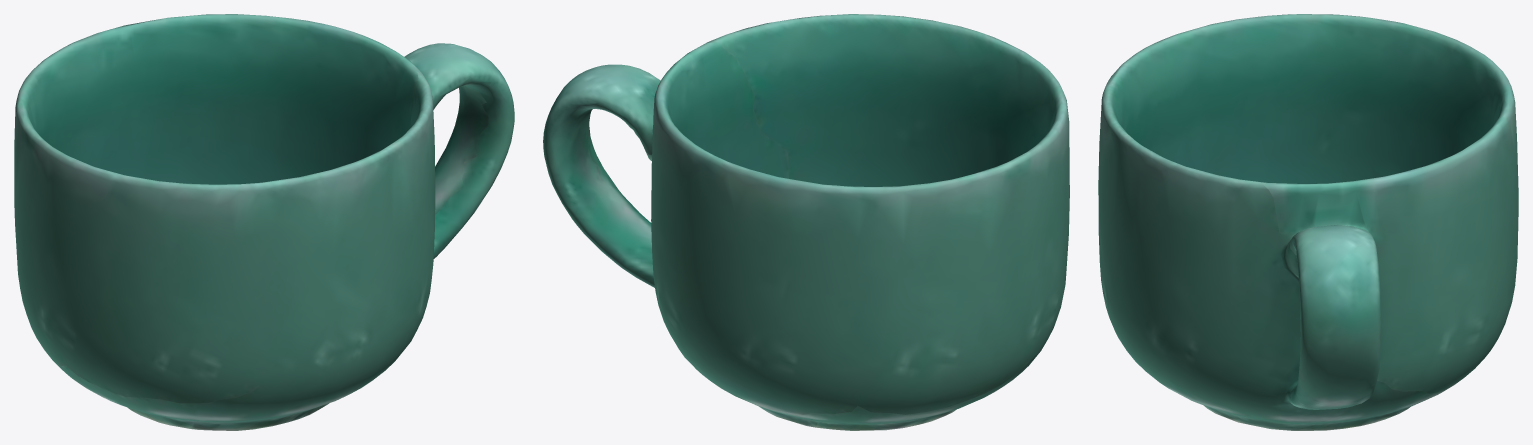
Rendered from mug.glb.
The picture shows the model from 3 angles, left to right: view 1: azimuth 30°, elevation 25°; view 2: azimuth 150°, elevation 25°; view 3: azimuth 270°, elevation 25°; orthographic projection.
Visible parts, largest first — view 1: part0; view 2: part0; view 3: part0.
Part boxes in pixels (box(x1,y1,x2,y2)): part0: box(14, 14, 514, 430); part0: box(543, 14, 1069, 430); part0: box(1098, 14, 1518, 430).
Size of the model in its own units: 0.0911 by 0.0521 by 0.0691.
Materials: 1 (1 with a texture image).
